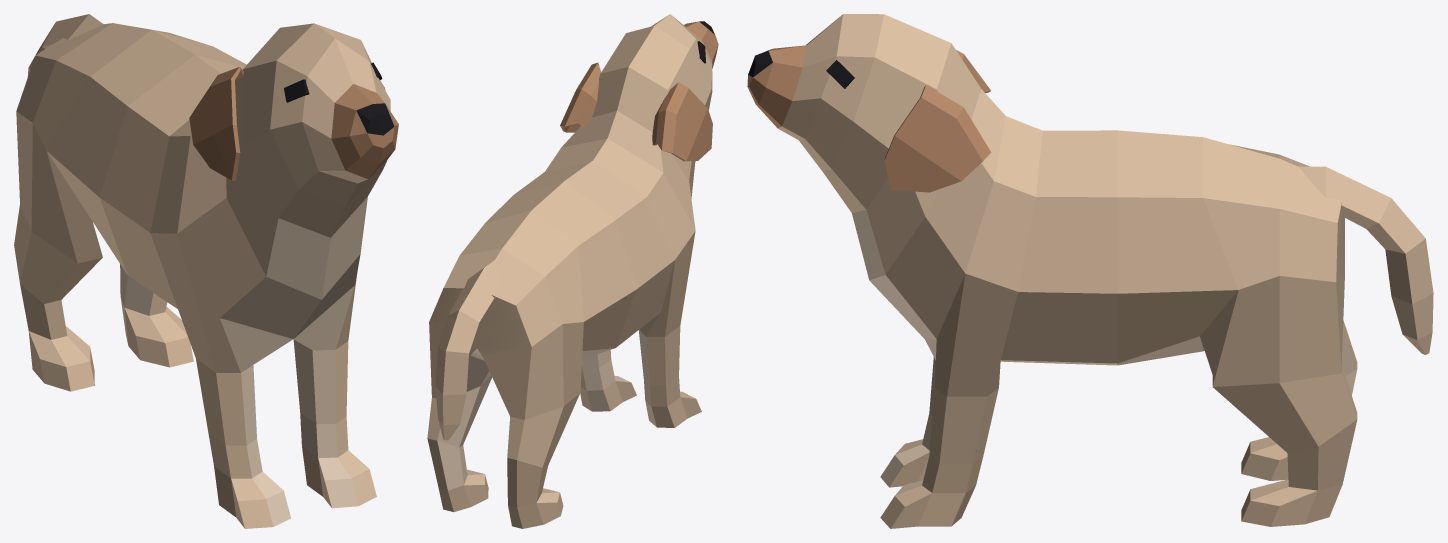
The model's file is Puppy.glb.
The picture shows the model from 3 angles, left to right: view 1: azimuth 30°, elevation 25°; view 2: azimuth 150°, elevation 25°; view 3: azimuth 270°, elevation 25°; orthographic projection. The views are drawn at different scales.
Parts seen in each view (by area): view 1: Geo_Puppy; view 2: Geo_Puppy; view 3: Geo_Puppy.
Part boxes in pixels (box(x1,y1,x2,y2)): Geo_Puppy: box(14, 14, 398, 528); Geo_Puppy: box(427, 14, 718, 528); Geo_Puppy: box(747, 14, 1433, 528).
Size of the model in its own units: 24.6 by 60.46 by 77.78.
1 material, 1 textured.
